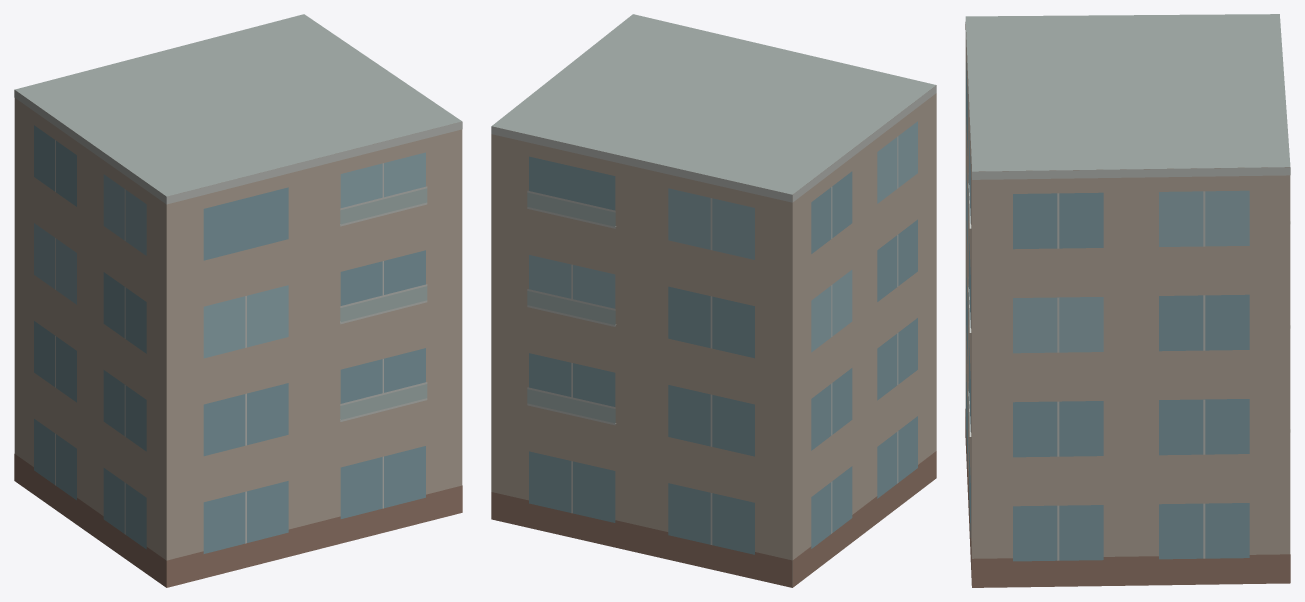
File: survey-upis-32472519.glb
3 views of the same model, side by side, from view 1: azimuth 30°, elevation 25°; view 2: azimuth 150°, elevation 25°; view 3: azimuth 270°, elevation 25° (orthographic). The views are drawn at different scales.
Parts seen in each view (by area): view 1: survey-upis-32472519.tmp; view 2: survey-upis-32472519.tmp; view 3: survey-upis-32472519.tmp.
Boxes of the visible parts, <box> form: survey-upis-32472519.tmp: <box>14,14,462,587</box>; survey-upis-32472519.tmp: <box>491,14,936,587</box>; survey-upis-32472519.tmp: <box>965,14,1290,587</box>.
Bounding box in the file's own units: 9.83 × 12.1 × 8.57.
